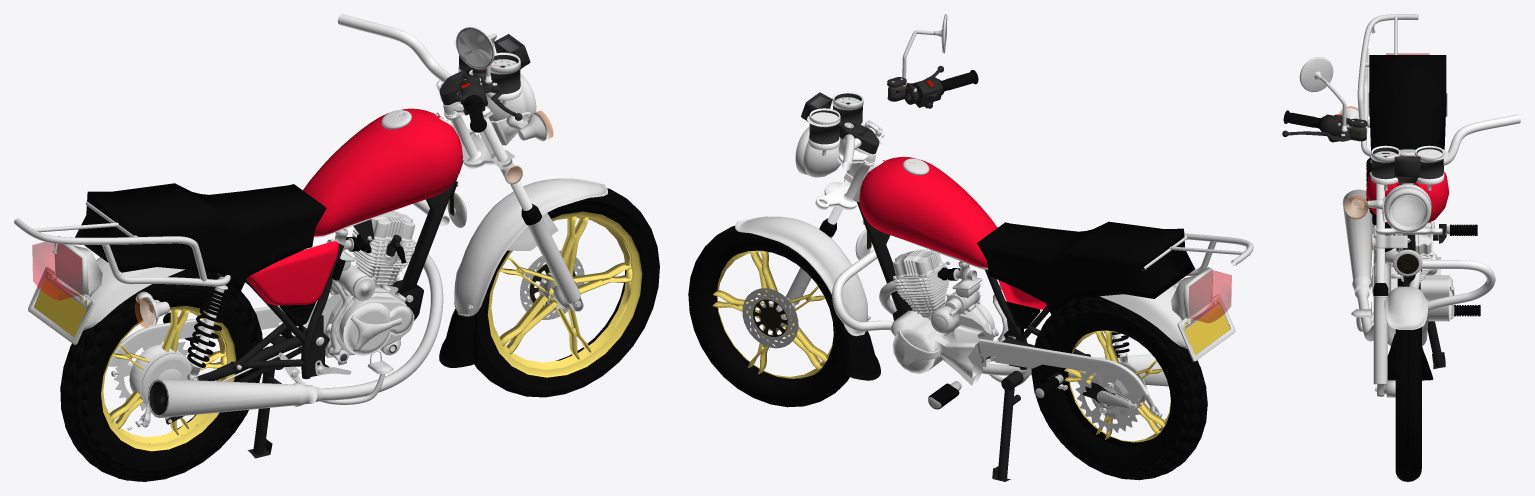
3 views of the same model, side by side, from view 1: azimuth 30°, elevation 25°; view 2: azimuth 150°, elevation 25°; view 3: azimuth 270°, elevation 25° (orthographic). The views are drawn at different scales.
Visible parts, largest first — view 1: Cube.017, Cylinder.034, Cube.020, Cylinder.024, Cube.027, Cylinder.032, Torus.002, Cube.004, Cube.022, NurbsPath.004, Torus.004, Cube.046 (+31 smaller); view 2: Cylinder.034, Cube.017, Cylinder.024, Cube.020, Cube.027, Cylinder.115, Cube.048, Cube.046, Cube.004, Cylinder.118, Cube.021, Cube.029 (+24 smaller); view 3: Cube.017, Cylinder.024, Cylinder.007, Cylinder.032, Cone.001, Cube.027, Cylinder.118, NurbsPath.004, BezierCurve.005, Cylinder.115, Cube.020, Cylinder.066 (+17 smaller).
Boxes of the visible parts, <box> form: Cube.017: <box>75,183,326,292</box>; Cylinder.034: <box>60,269,262,481</box>; Cube.020: <box>303,108,462,237</box>; Cylinder.024: <box>474,188,659,397</box>; Cube.027: <box>454,178,607,316</box>; Cylinder.032: <box>147,378,322,417</box>; Torus.002: <box>487,211,642,377</box>; Cube.004: <box>499,216,631,359</box>; Cube.022: <box>246,241,339,305</box>; NurbsPath.004: <box>14,201,230,286</box>; Torus.004: <box>101,306,236,451</box>; Cube.046: <box>352,211,416,286</box>; Cylinder.034: <box>1031,296,1207,480</box>; Cube.017: <box>977,221,1194,315</box>; Cylinder.024: <box>688,226,849,407</box>; Cube.020: <box>859,156,997,269</box>; Cube.027: <box>735,216,867,336</box>; Cylinder.115: <box>890,310,985,385</box>; Cube.048: <box>975,338,1149,395</box>; Cube.046: <box>893,249,949,314</box>; Cube.004: <box>712,250,827,374</box>; Cylinder.118: <box>808,91,863,155</box>; Cube.021: <box>1188,270,1231,322</box>; Cube.029: <box>1100,285,1187,348</box>; Cube.017: <box>1369,55,1446,184</box>; Cylinder.024: <box>1395,327,1421,481</box>; Cylinder.007: <box>1373,183,1388,396</box>; Cylinder.032: <box>1342,189,1373,299</box>; Cone.001: <box>1384,183,1431,232</box>; Cube.027: <box>1384,286,1428,345</box>; Cylinder.118: <box>1371,145,1444,190</box>; NurbsPath.004: <box>1357,14,1418,156</box>; BezierCurve.005: <box>1421,260,1495,310</box>; Cylinder.115: <box>1420,257,1452,321</box>; Cube.020: <box>1366,156,1449,223</box>; Cylinder.066: <box>1299,57,1333,92</box>.
Bounding box in the file's own units: 8.18 × 5.49 × 3.25.
Materials: 43 (2 with a texture image).
